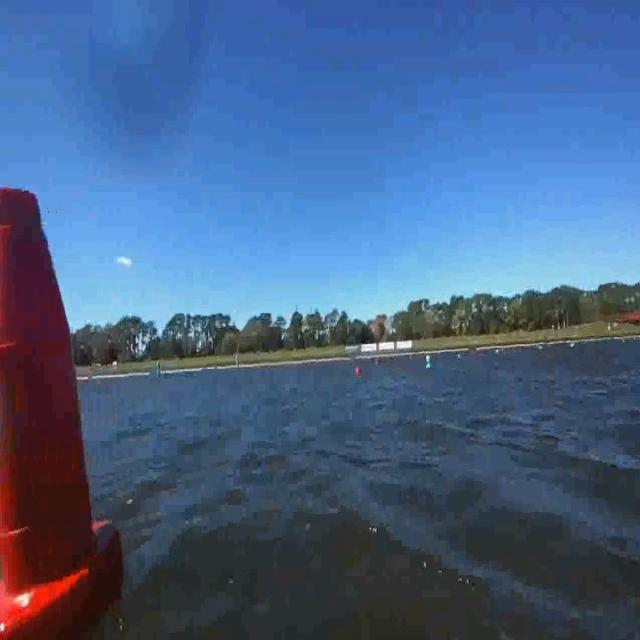red-buoy: (356, 364, 362, 377)
red-column-buoy: (0, 162, 122, 640)
